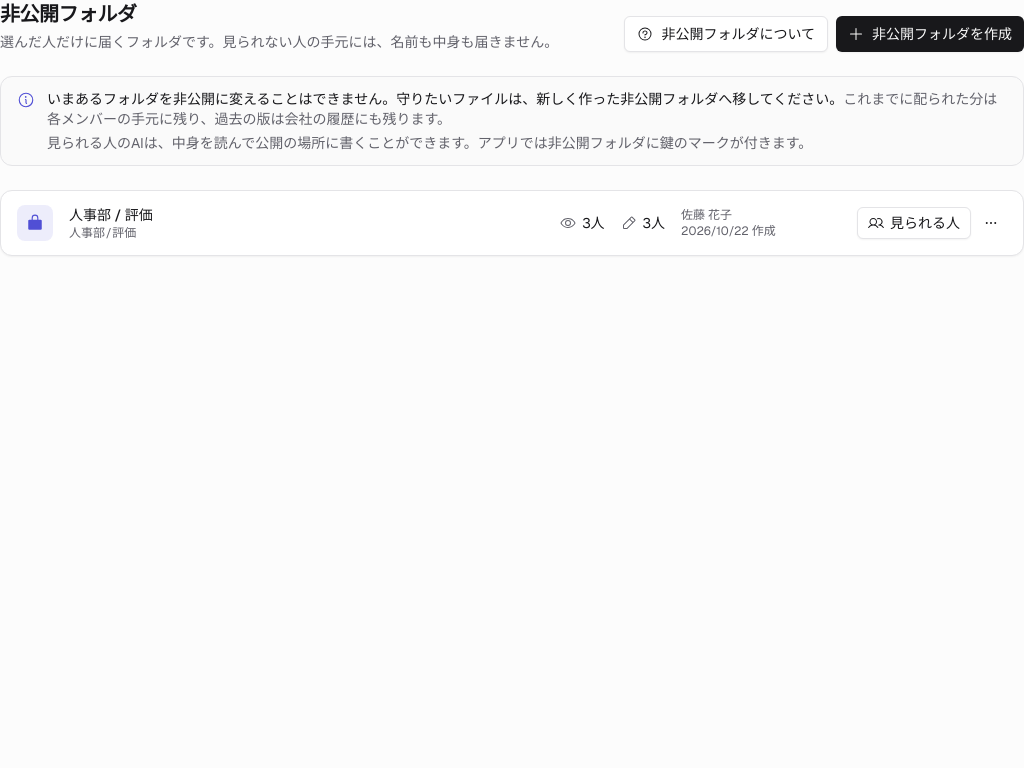
Scenario: 非公開フォルダ: create › creates with the default viewers (creator + the department managers) and the summary line
This screenshot has width=1024, height=768.
Click the button "非公開フォルダを作成". click: click(930, 34)
box: [836, 16, 1023, 52]
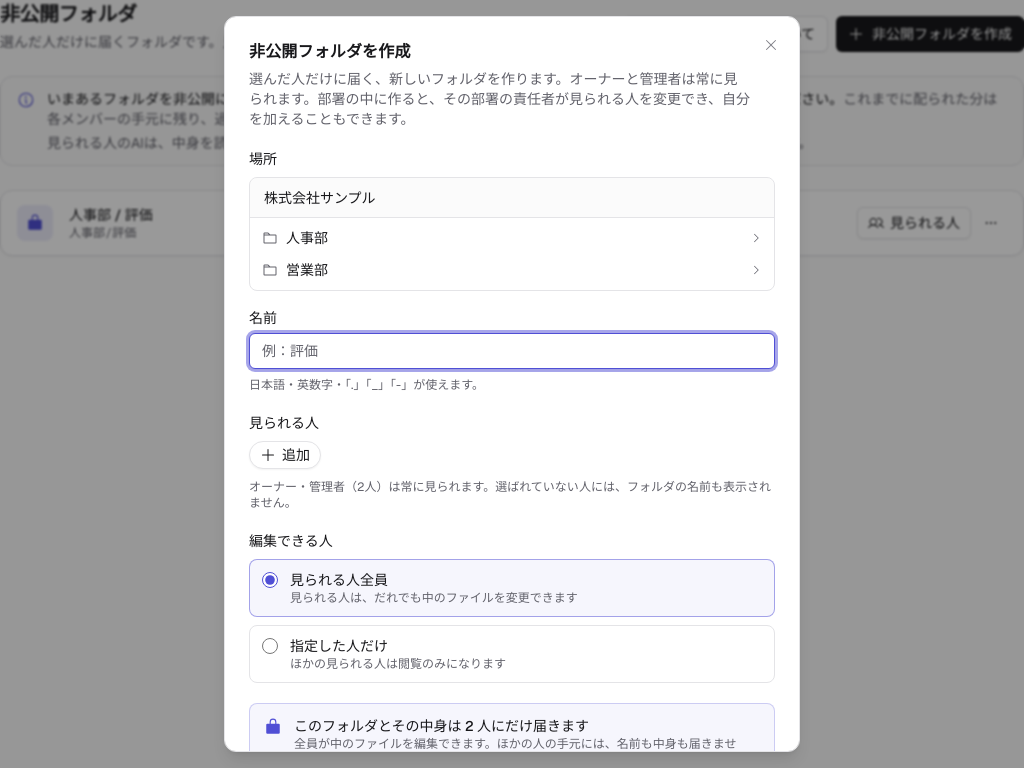
Click the button "営業部". click: click(307, 270)
box: [254, 254, 770, 286]
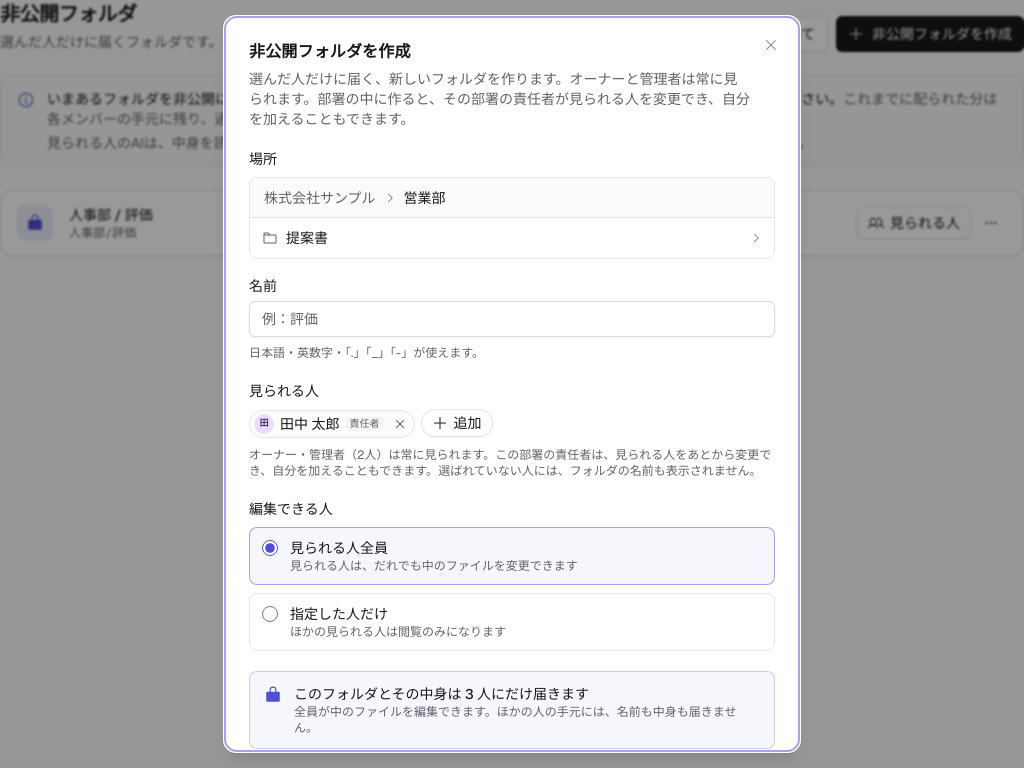
Expected: the text "提案書" is shown, [286, 229, 328, 247]
Expected: the text "田中 太郎" is shown, [280, 414, 340, 434]
Expected: the message shows "このフォルダとその中身は 3 人にだけ届きます", [249, 671, 775, 749]
Type "顧客対応" into the field labelled "名前". click: (512, 319)
box: [249, 301, 775, 337]
(page scrolled)
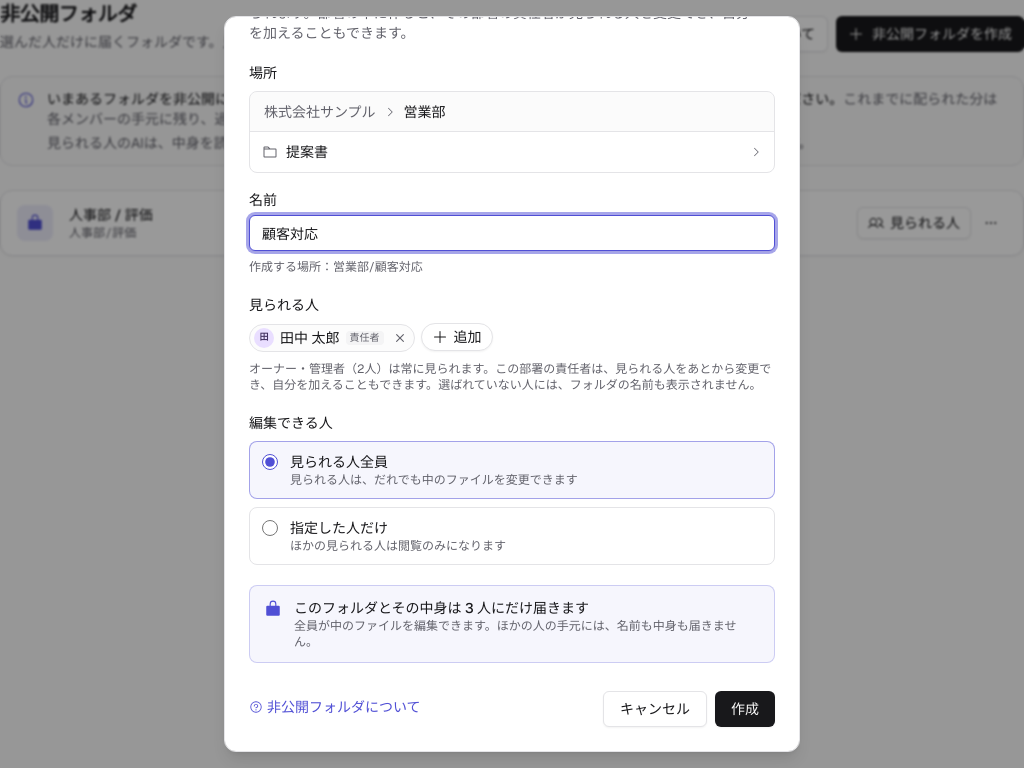
Expected: the text "作成する場所：営業部/顧客対応" is shown, [249, 259, 423, 275]
Click the button "作成". click: click(745, 709)
box: [715, 691, 775, 727]
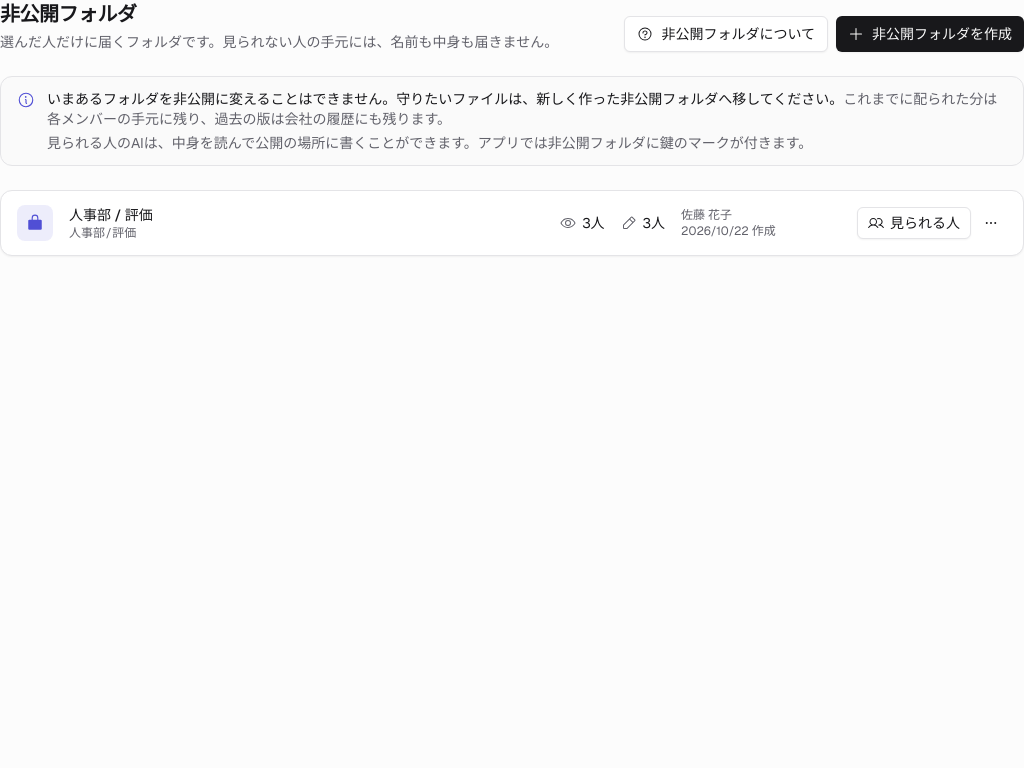
Expected: the dialog is gone
